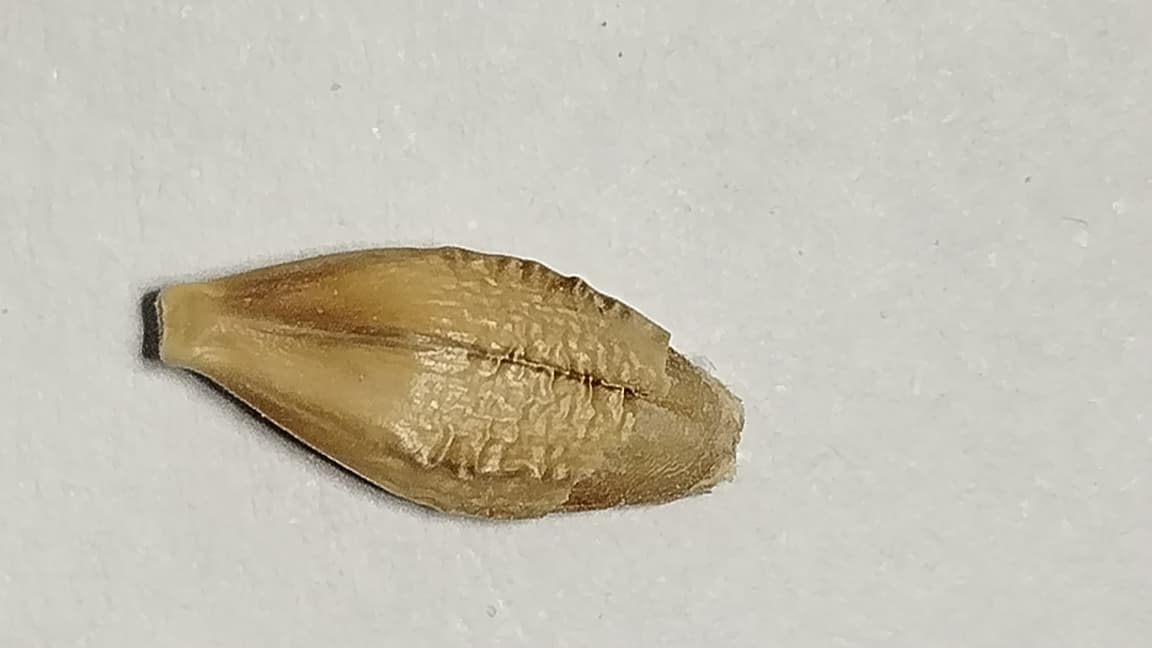healthy-50-40: (158, 248, 741, 511)
shriveledseed: (404, 250, 667, 481)
staindamage: (254, 264, 419, 345)
